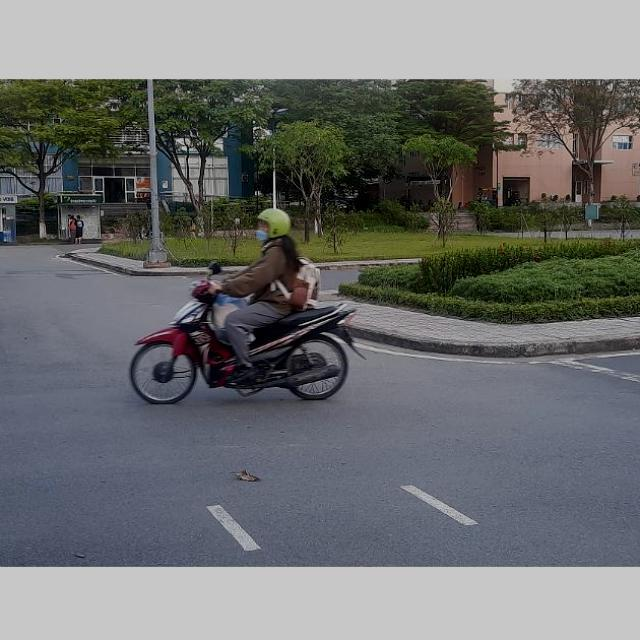Helmet: (254, 206, 293, 246)
